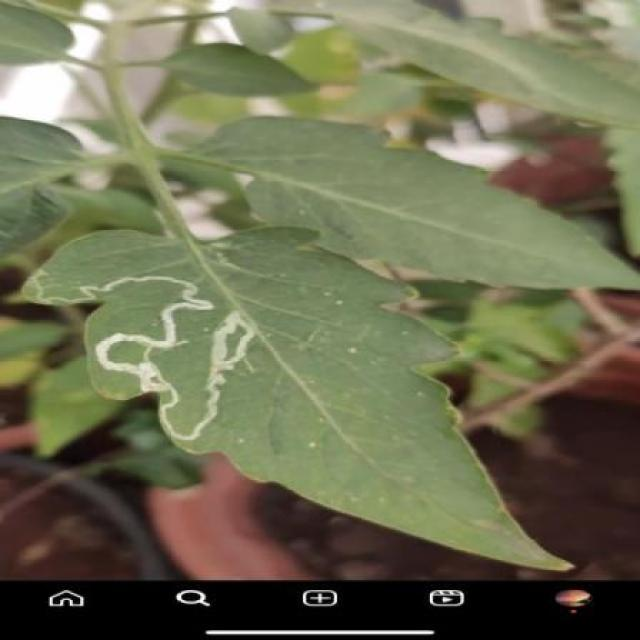Healthy: (197, 115, 640, 288)
Leaf Miner: (18, 230, 576, 573)
